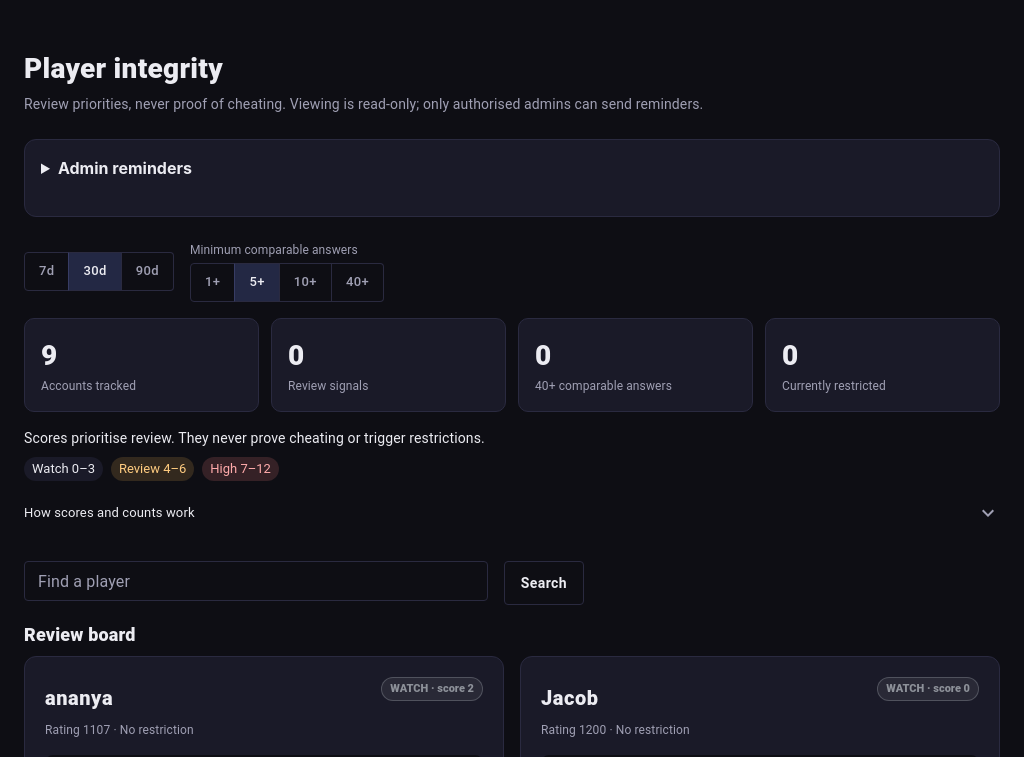
Scenario: integrity panel with live-shaped data › player summaries expose an accessible review action
Step 1. Click the button with aria-label "Review ananya" → x=79, y=699, box [45,677,113,721]
(page scrolled)
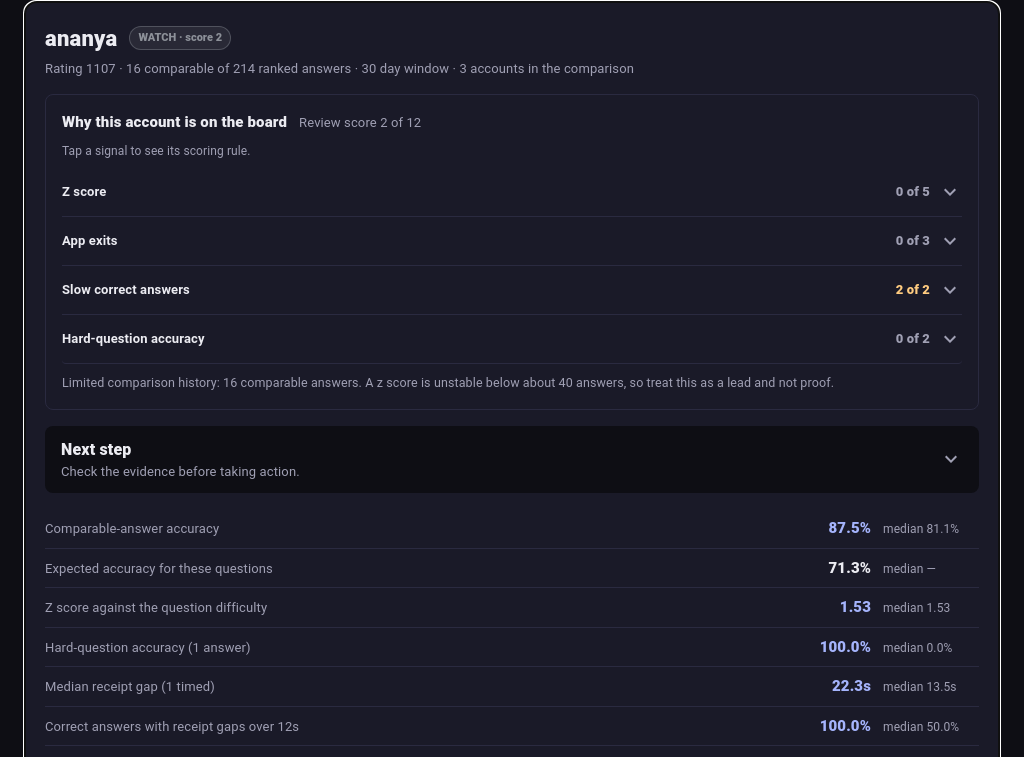
Result: the text "Why this account is on the board" is shown at [62,111,287,134]
